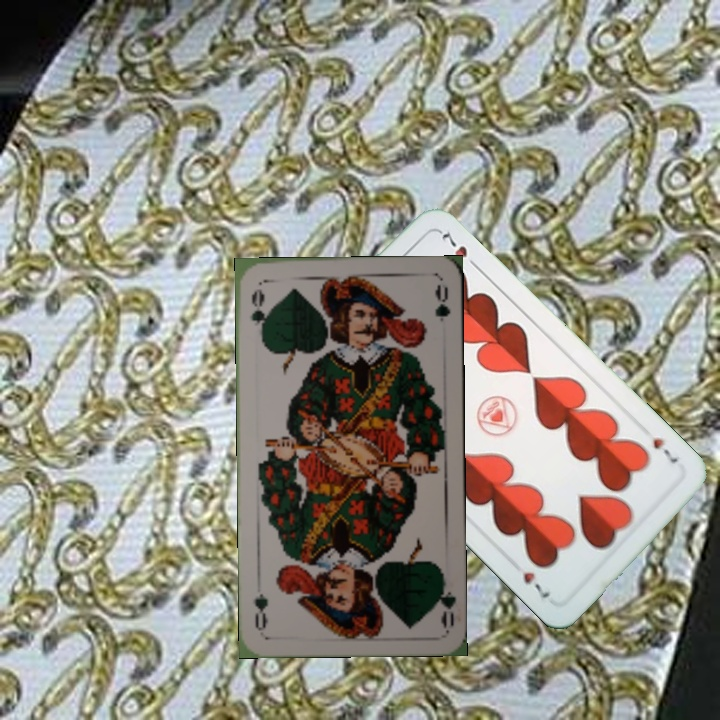GO: (431, 570, 458, 630), (247, 284, 269, 341)
H7: (648, 434, 681, 466)
